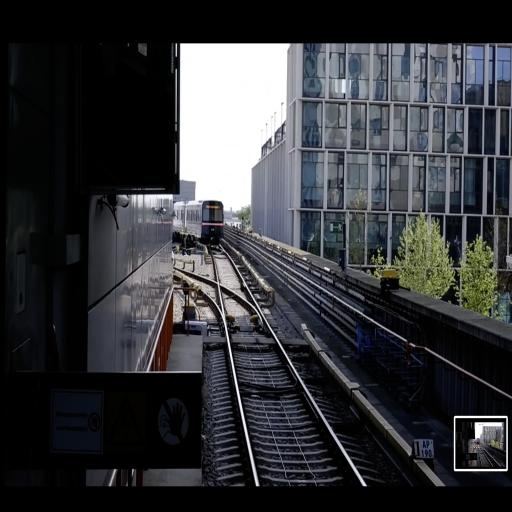X-Wagen: (174, 199, 225, 249)
